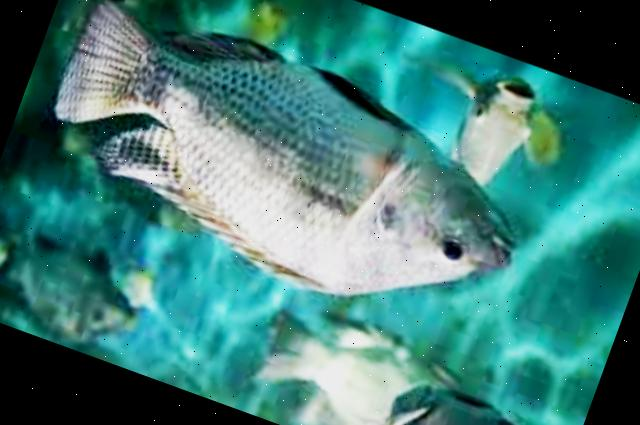Healthy Fish: (56, 0, 517, 294)
